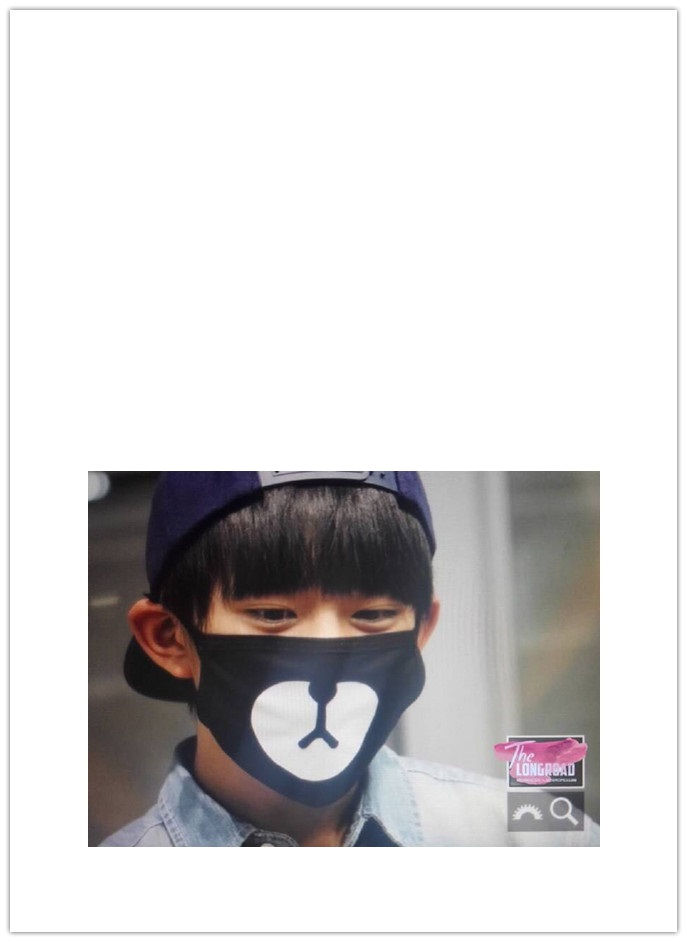face_mask: (197, 490, 411, 806)
